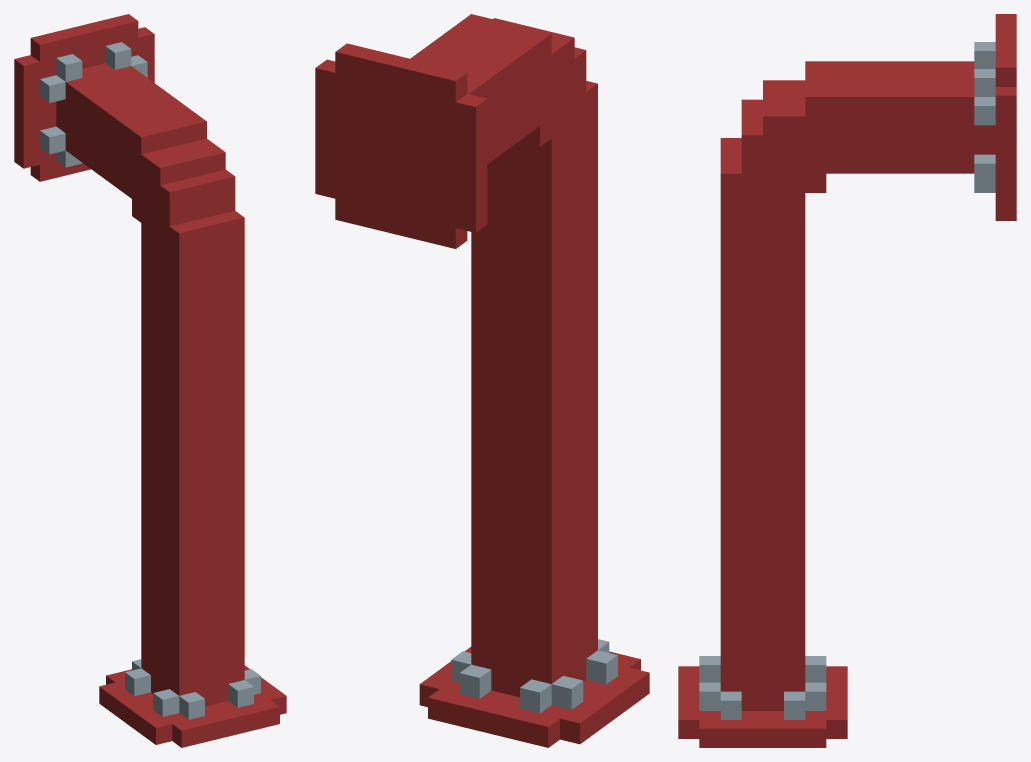
File: BigTube.obj
The picture shows the model from 3 angles, left to right: view 1: azimuth 30°, elevation 25°; view 2: azimuth 150°, elevation 25°; view 3: azimuth 270°, elevation 25°; orthographic projection. The views are drawn at different scales.
Size of the model in its own units: 8 by 35 by 16.
1 material, 1 textured.
